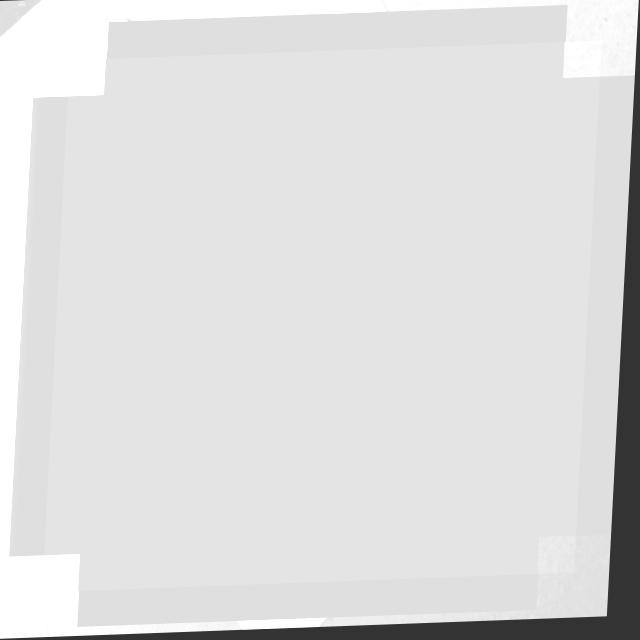qr_code: (49, 44, 603, 591)
